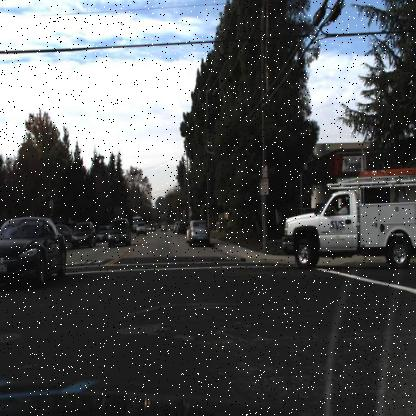car: (276, 161, 415, 292), (0, 212, 70, 301), (0, 219, 68, 285), (66, 215, 97, 249), (107, 216, 130, 249), (70, 219, 94, 248), (185, 220, 211, 245), (56, 220, 76, 240), (93, 224, 110, 245), (144, 226, 160, 245), (156, 220, 170, 236)
truck: (282, 185, 415, 272)
